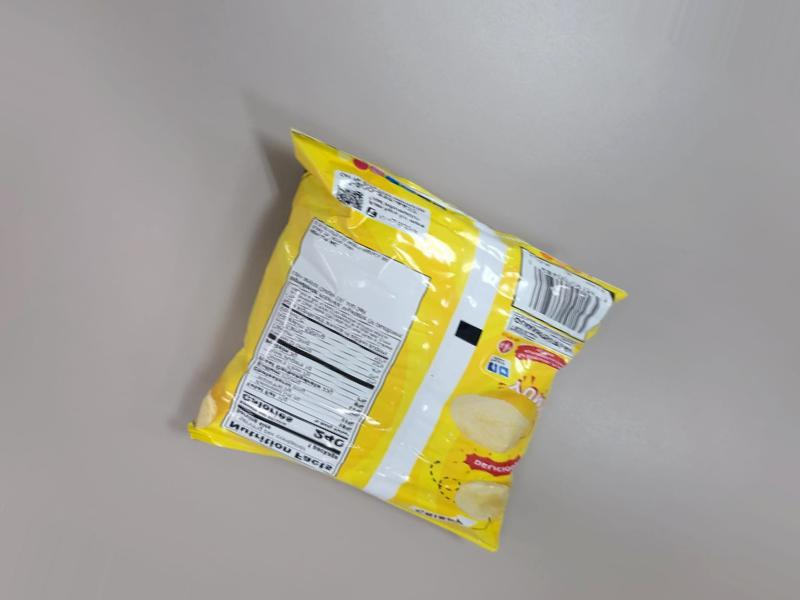lays: (277, 102, 652, 593)
